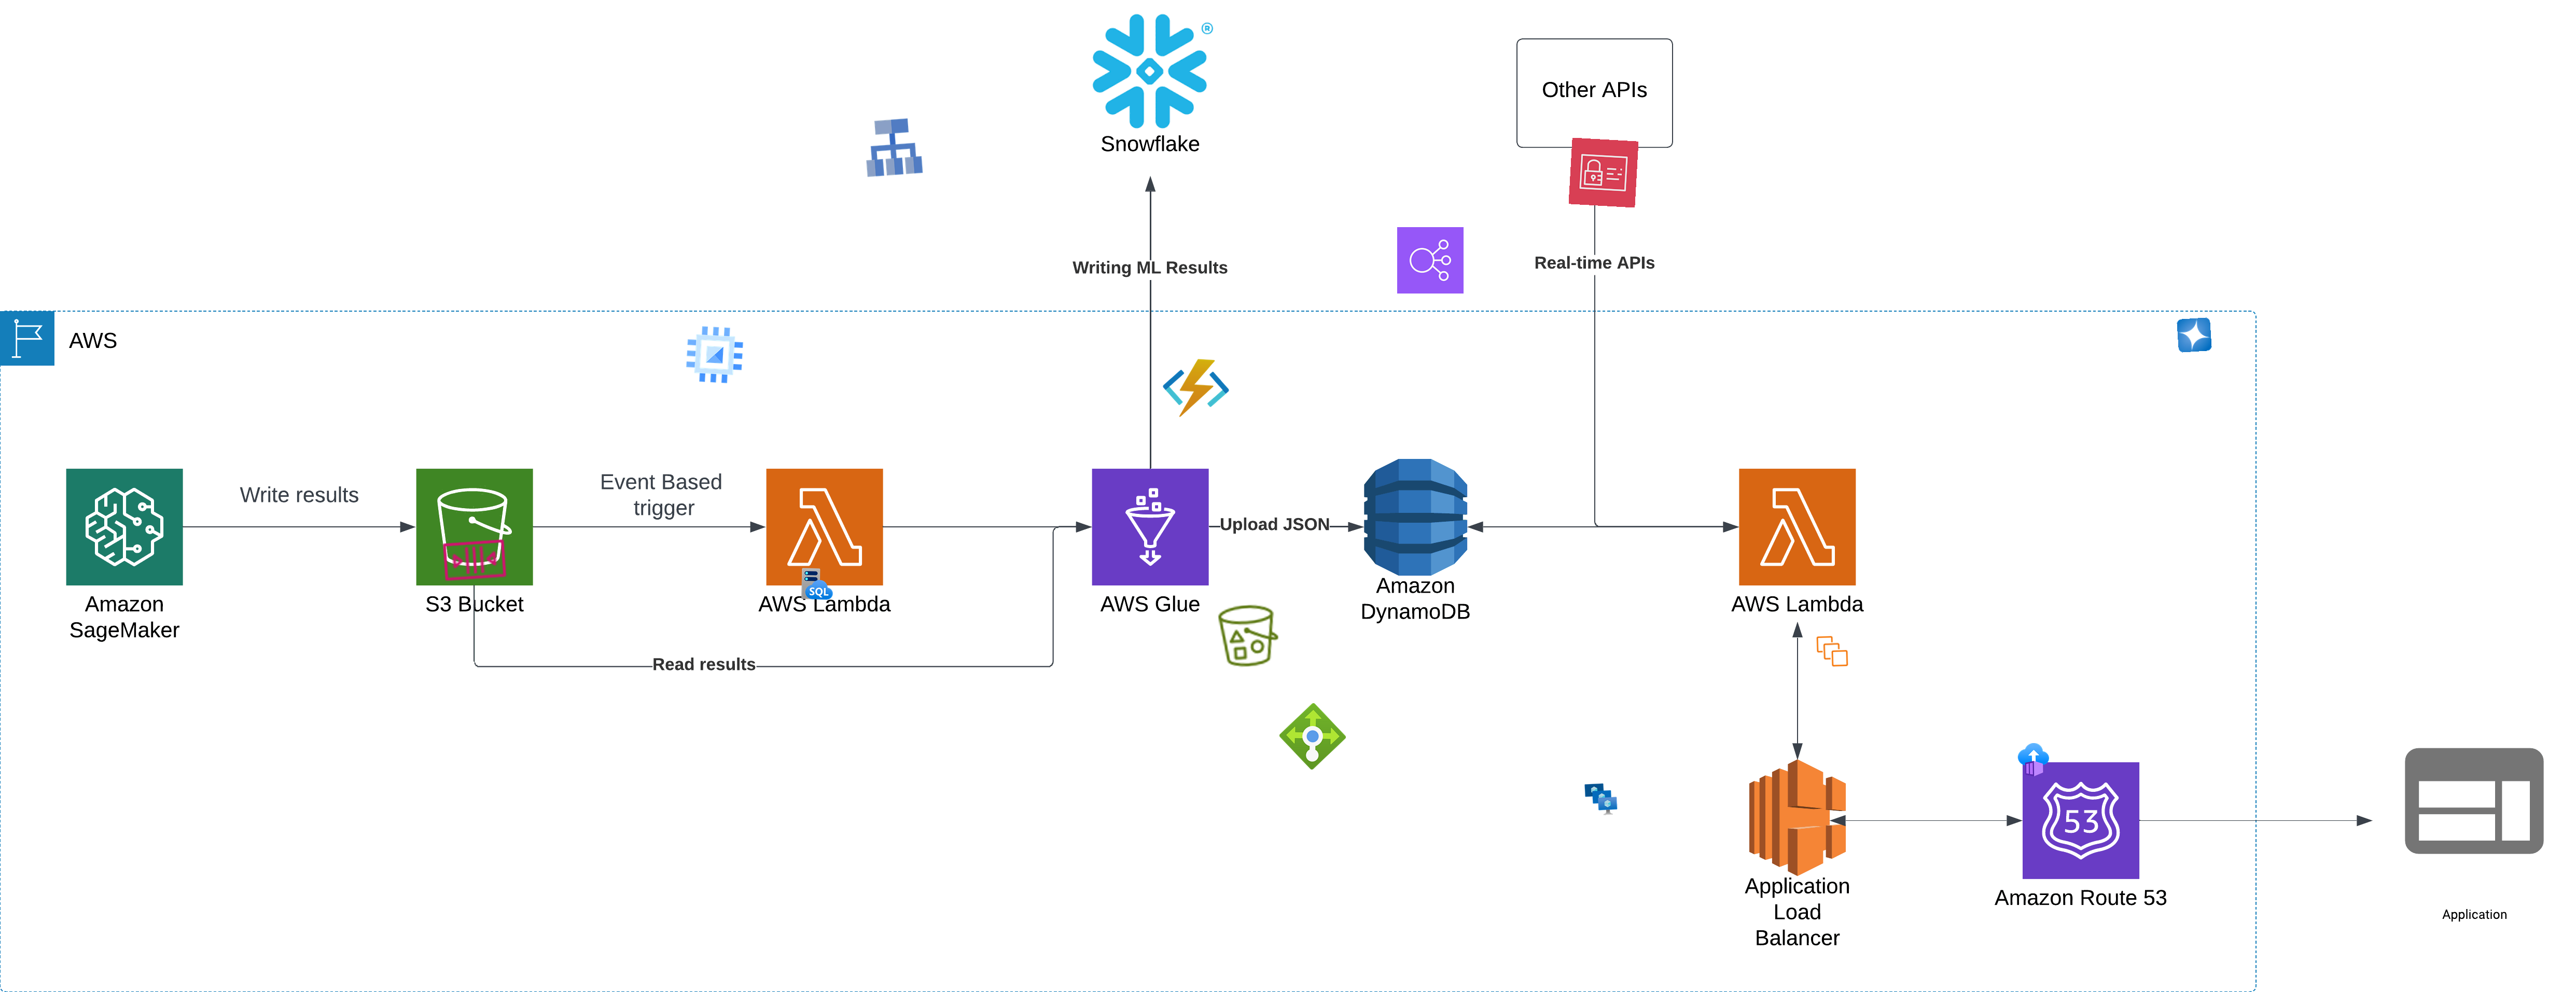aws_ec2_instances: (1815, 634, 1850, 668)
aws_elastic_load_balancing: (1396, 227, 1464, 294)
aws_identity_and_access_management: (1569, 138, 1640, 209)
aws_simple_queue_service_queue: (439, 524, 511, 595)
aws_simple_storage_service_bucket_with_objects: (1212, 599, 1285, 672)
azure_container_instances: (2016, 742, 2050, 777)
azure_function_apps: (1160, 353, 1230, 424)
azure_load_balancers: (1278, 703, 1347, 770)
azure_openai: (2177, 317, 2211, 353)
azure_sql_managed_instance: (800, 567, 835, 601)
azure_vm_scale_sets: (1582, 780, 1618, 816)
gcp_cloud_load_balancing: (858, 112, 928, 182)
gcp_compute_engine: (680, 319, 749, 389)
